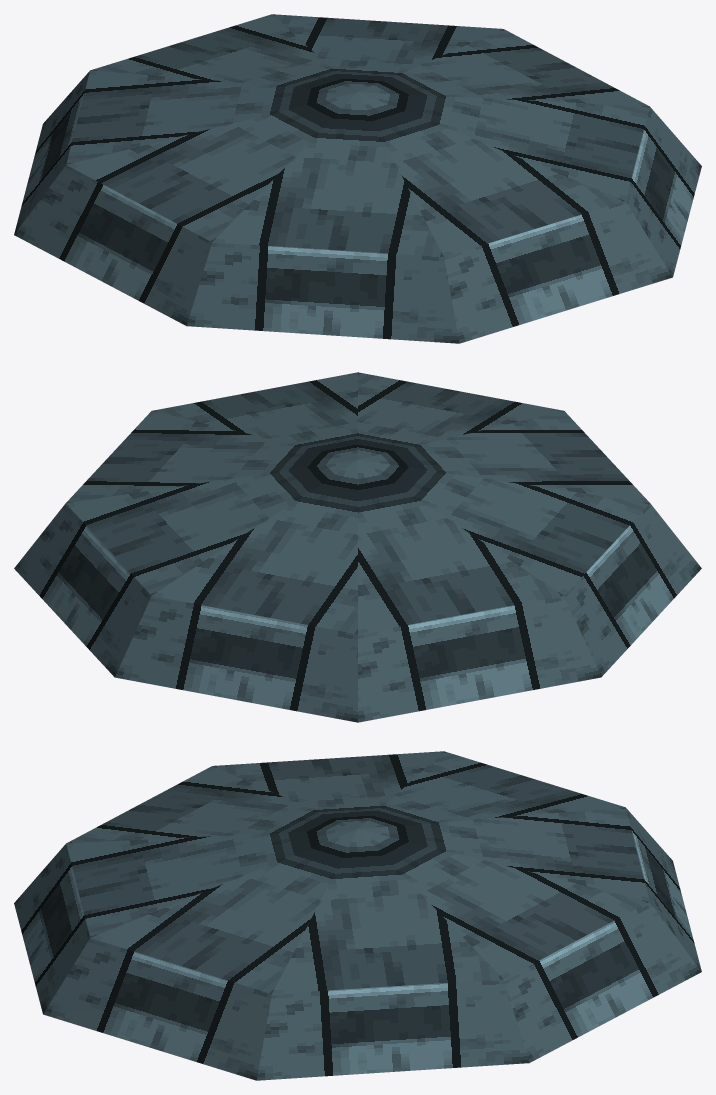
The model's file is primary_098.glb.
3 views of the same model, one above another, from view 1: azimuth 30°, elevation 25°; view 2: azimuth 150°, elevation 25°; view 3: azimuth 270°, elevation 25° (orthographic).
Parts seen in each view (by area): view 1: Object; view 2: Object; view 3: Object.
Boxes of the visible parts, x1,y1,x2,y2 form: Object: (14, 14, 701, 343); Object: (14, 372, 701, 722); Object: (14, 751, 701, 1080).
Bounding box in the file's own units: 0.9363 × 0.1654 × 0.9512.
2 materials, 2 textured.
